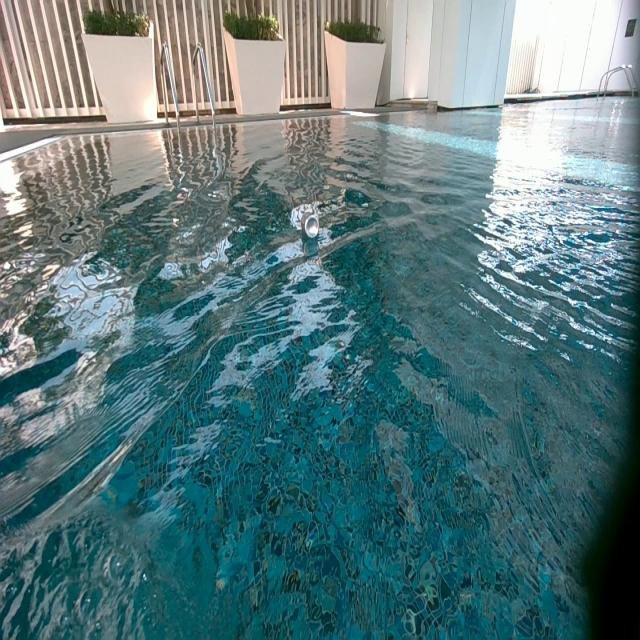Cans: (301, 211, 320, 241)
